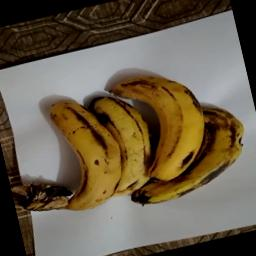Banana Unripe: (23, 53, 256, 231)
